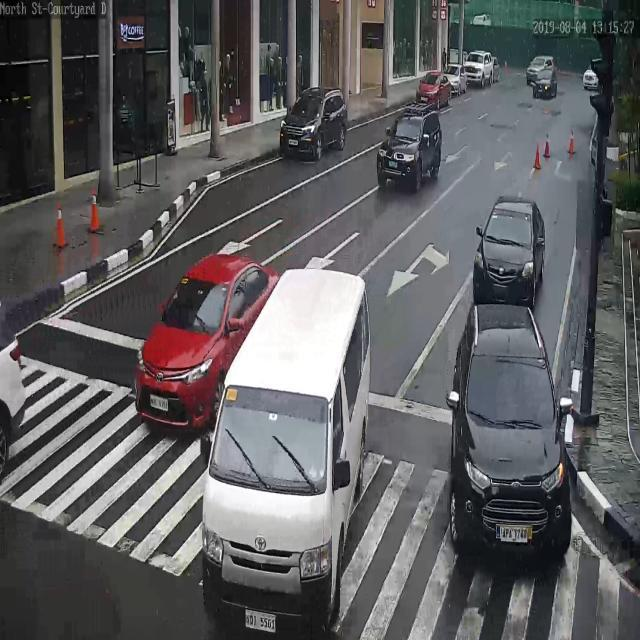car: (455, 301, 572, 575), (135, 256, 272, 437), (472, 193, 545, 312), (377, 107, 442, 192), (0, 300, 27, 485), (281, 85, 349, 158), (415, 69, 454, 107), (467, 49, 500, 88), (526, 53, 558, 86), (443, 63, 471, 93), (532, 69, 557, 102)
van: (202, 269, 370, 640), (583, 60, 602, 92)
